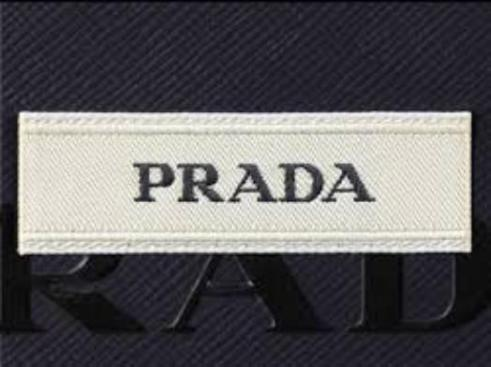PRADA: (130, 152, 376, 209)
